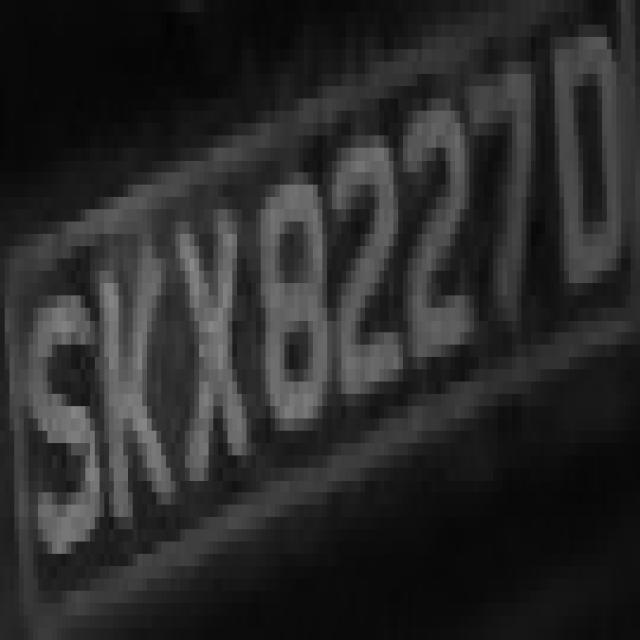2: (327, 86, 408, 443), (403, 61, 474, 418)
7: (465, 37, 545, 381)
8: (251, 98, 327, 480)
D: (540, 37, 621, 394)
K: (85, 172, 171, 554)
S: (19, 246, 100, 640)
X: (161, 123, 251, 480)
